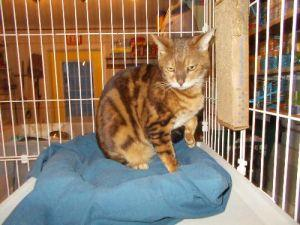bengal: (148, 29, 220, 93)
